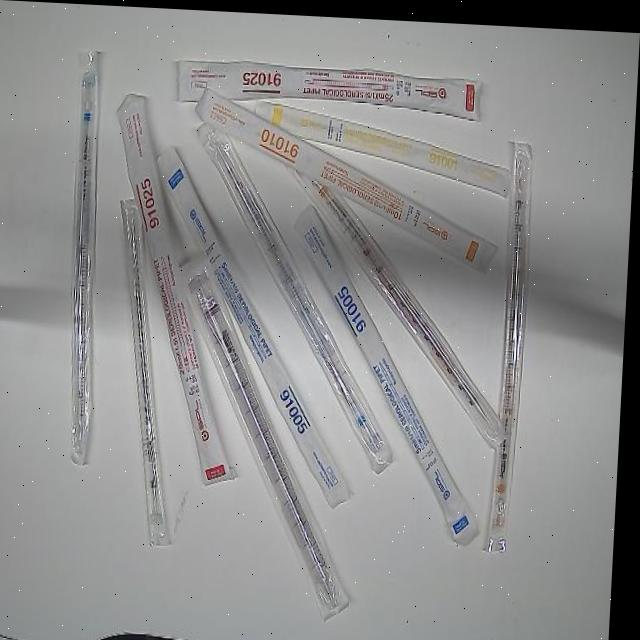Serelogical Pipet 1 mL: (250, 95, 526, 197)
Serelogical Pipet 10 mL: (284, 159, 524, 444), (190, 86, 511, 271), (491, 134, 542, 558)
Serelogical Pipet 2 mL: (106, 193, 195, 549)
Serelogical Pipet 25 mL: (100, 88, 259, 487), (172, 53, 489, 120)
Serelogical Pipet 5 mL: (142, 143, 374, 508), (183, 113, 416, 473), (280, 198, 499, 543), (63, 41, 121, 469)
Serelogical Pipet 50 mL: (167, 250, 377, 617)
